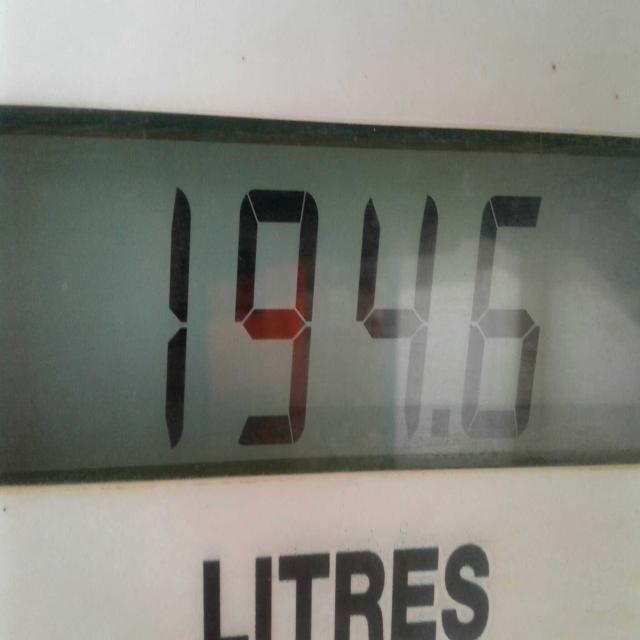.: (433, 399, 455, 453)
1: (152, 178, 206, 456)
4: (353, 181, 435, 453)
6: (462, 186, 548, 444)
9: (223, 175, 319, 457)
